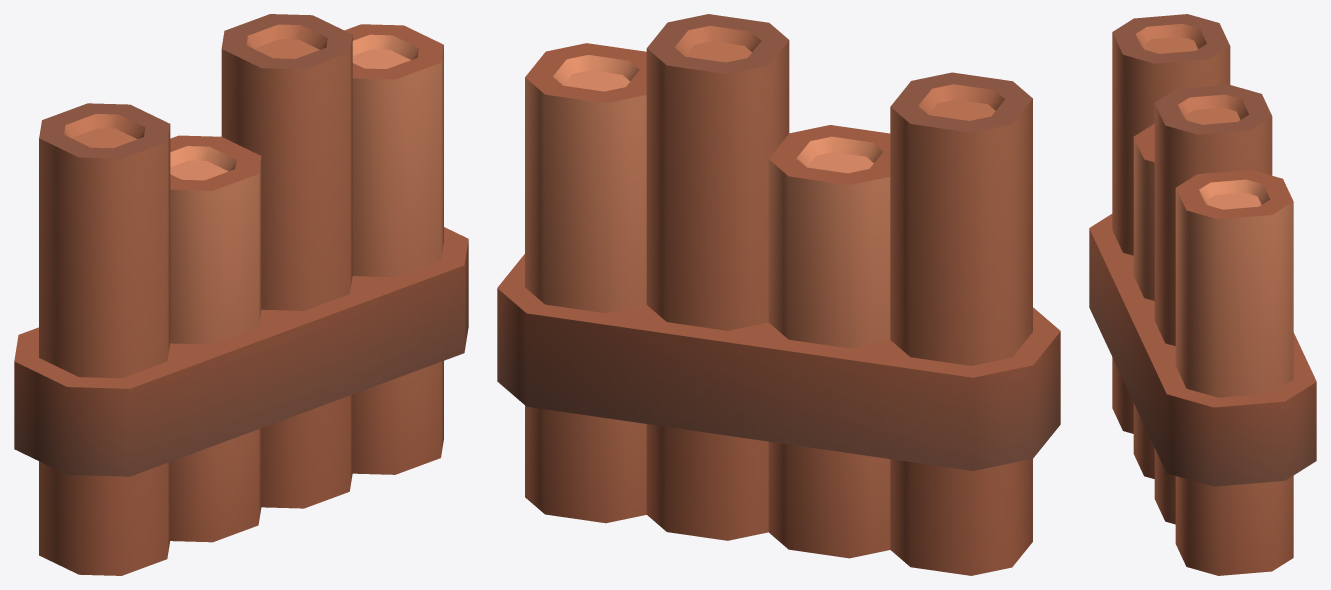
The model's file is n5_n5_poles_lev5.011.glb.
The picture shows the model from 3 angles, left to right: view 1: azimuth 30°, elevation 25°; view 2: azimuth 150°, elevation 25°; view 3: azimuth 270°, elevation 25°; orthographic projection. The views are drawn at different scales.
Visible parts, largest first — view 1: n5_n5_poles_lev5.011; view 2: n5_n5_poles_lev5.011; view 3: n5_n5_poles_lev5.011.
Boxes of the visible parts, left/top/right/bottom form: n5_n5_poles_lev5.011: left=14, top=14, right=468, bottom=575; n5_n5_poles_lev5.011: left=497, top=14, right=1060, bottom=575; n5_n5_poles_lev5.011: left=1089, top=14, right=1316, bottom=575.
Size of the model in its own units: 5.51 by 4.96 by 2.58.
1 material, 1 textured.
